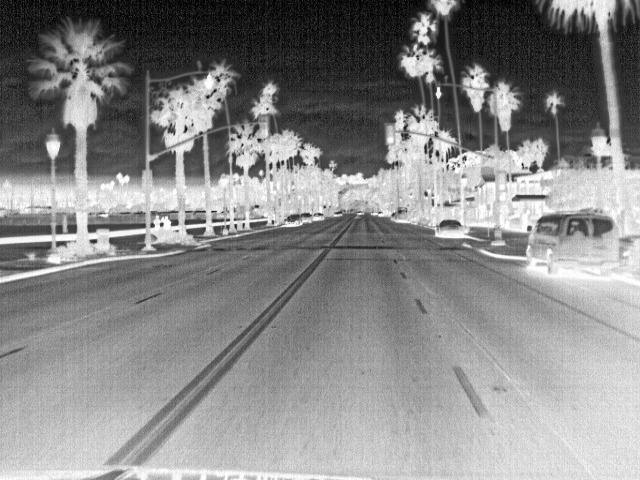car: (524, 211, 624, 276), (434, 219, 466, 239), (395, 205, 410, 225), (284, 214, 301, 228), (294, 213, 313, 224), (309, 211, 325, 222)
person: (152, 212, 165, 230), (161, 214, 174, 230)
